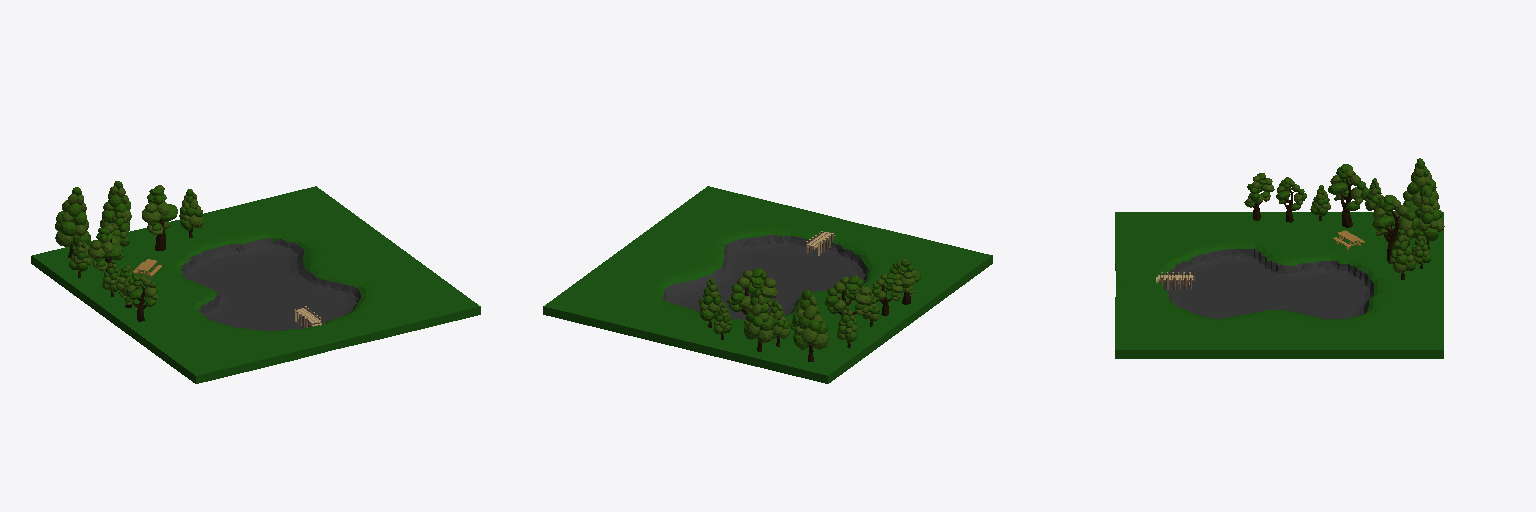
File: LakeScene.obj
The picture shows the model from 3 angles: view 1: azimuth 30°, elevation 25°; view 2: azimuth 150°, elevation 25°; view 3: azimuth 270°, elevation 25°; orthographic projection.
Visible parts, largest first — view 1: Ground_Grid; view 2: Ground_Grid; view 3: Ground_Grid.
Part boxes in pixels (left/top/right/bottom): Ground_Grid: left=31, top=181, right=480, bottom=383; Ground_Grid: left=543, top=186, right=992, bottom=383; Ground_Grid: left=1115, top=158, right=1444, bottom=358.
Size of the model in its own units: 60 by 17.82 by 60.05.